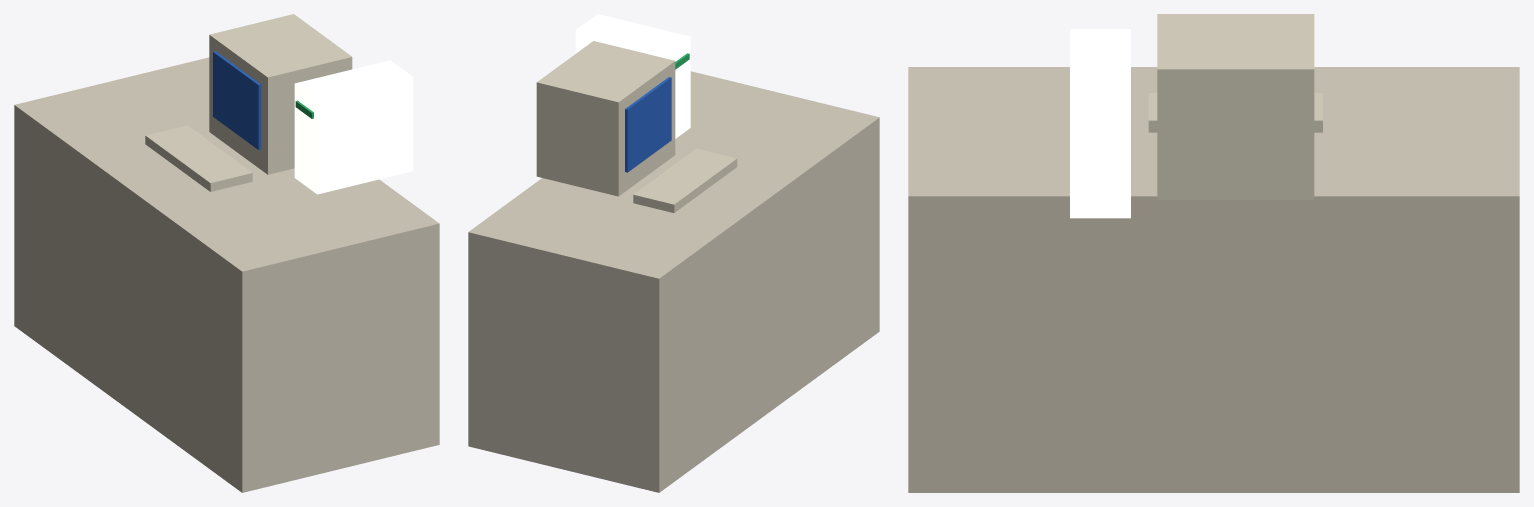
File: computer_display_3.glb
3 renders of one model, left to right at view 1: azimuth 30°, elevation 25°; view 2: azimuth 150°, elevation 25°; view 3: azimuth 270°, elevation 25°, orthographic. The views are drawn at different scales.
Parts seen in each view (by area): view 1: Box1, Box5, Box3, Box2, Box4; view 2: Box1, Box3, Box5, Box2, Box4; view 3: Box1, Box3, Box5, Box2.
Part boxes in pixels (box(x1,y1,x2,y2)): Box1: box(14, 57, 439, 492); Box5: box(294, 60, 413, 194); Box3: box(209, 14, 352, 174); Box2: box(145, 125, 252, 191); Box4: box(213, 51, 261, 149); Box1: box(468, 71, 879, 492); Box3: box(536, 41, 675, 196); Box5: box(575, 14, 690, 138); Box2: box(633, 148, 737, 212); Box4: box(625, 77, 671, 172); Box1: box(908, 67, 1519, 492); Box3: box(1157, 14, 1314, 199); Box5: box(1070, 29, 1130, 218); Box2: box(1148, 93, 1322, 132).
Size of the model in its own units: 0.82 by 1.08 by 1.4.
